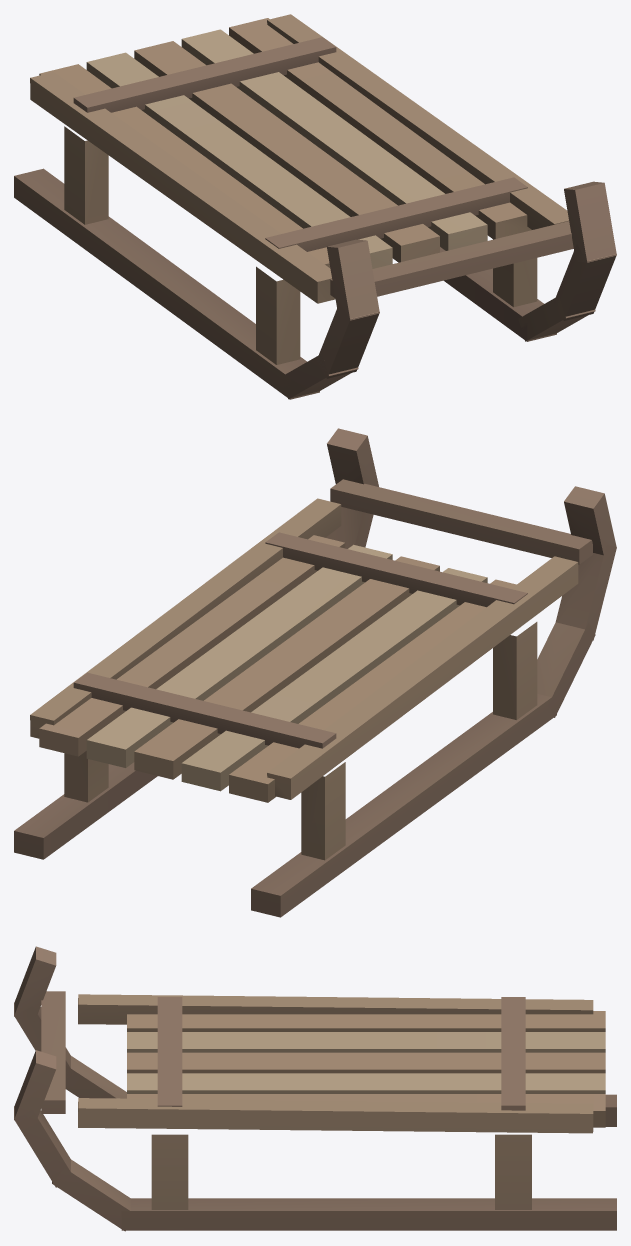
File: toboggan.lod1.glb
3 renders of one model, top to bottom at view 1: azimuth 30°, elevation 25°; view 2: azimuth 150°, elevation 25°; view 3: azimuth 270°, elevation 25°, orthographic. The views are drawn at different scales.
Bounding box in the file's own units: 0.45 × 0.3033 × 0.9832.
